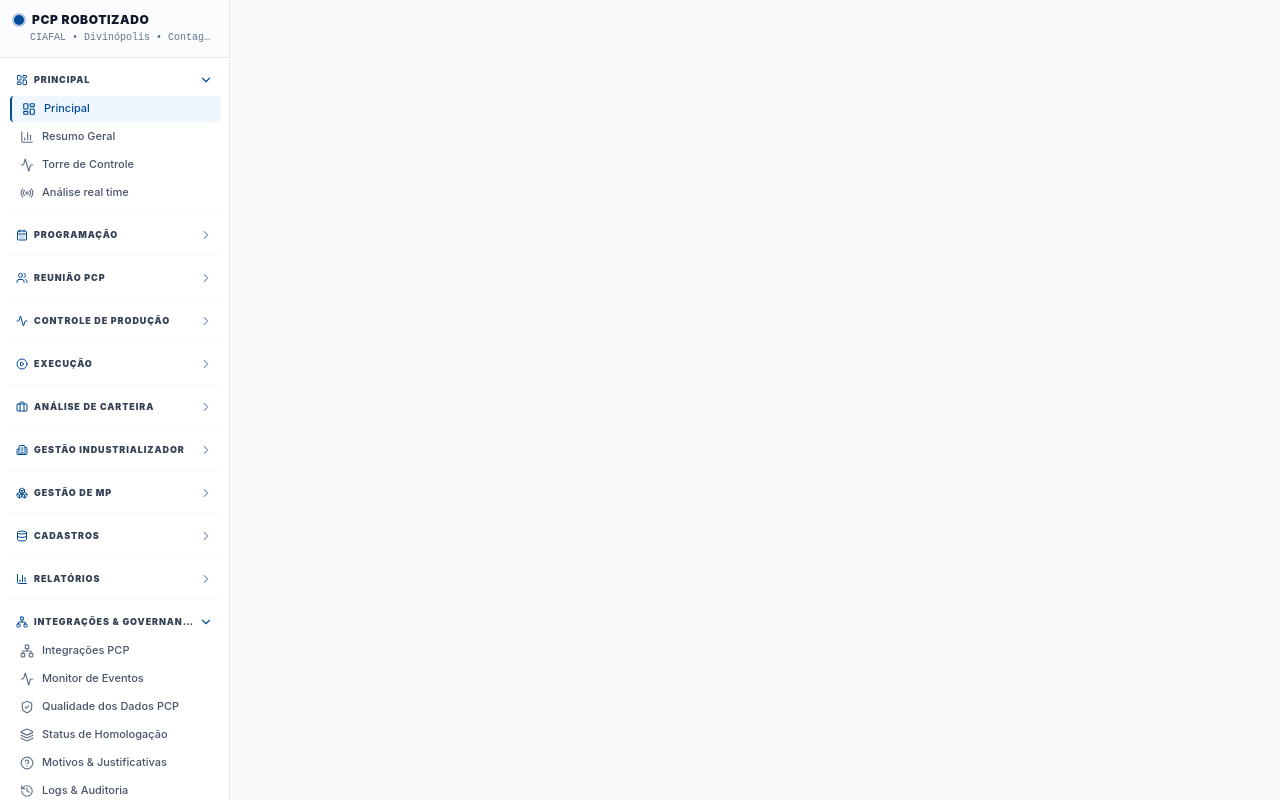
Test: Documentos de Referência + Ação Proposta por IA — Full Acceptance Suite › 2. Menu oficial: item "Documentos de Referência" aparece em CONTROLE DE PRODUÇÃO e navega para /pcp/controle-producao/documentos-referencia
Click the button with test id "nav-group-header-CONTROLE DE PRODUÇÃO": (114, 321) [16,314,213,328]
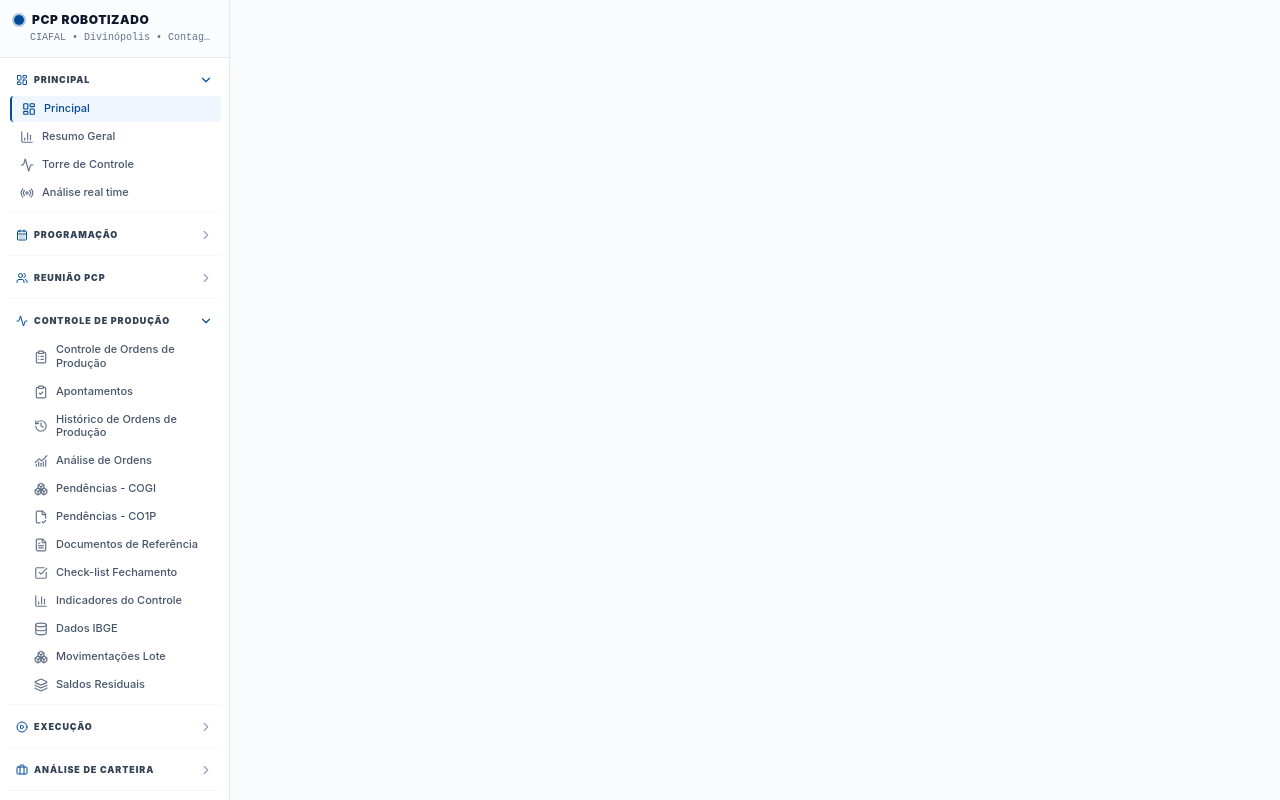
Expected: the text "Documentos de Referência" is shown, [56,538,211,552]
Click the link "Documentos de Referência": (116, 545) [34,537,198,552]
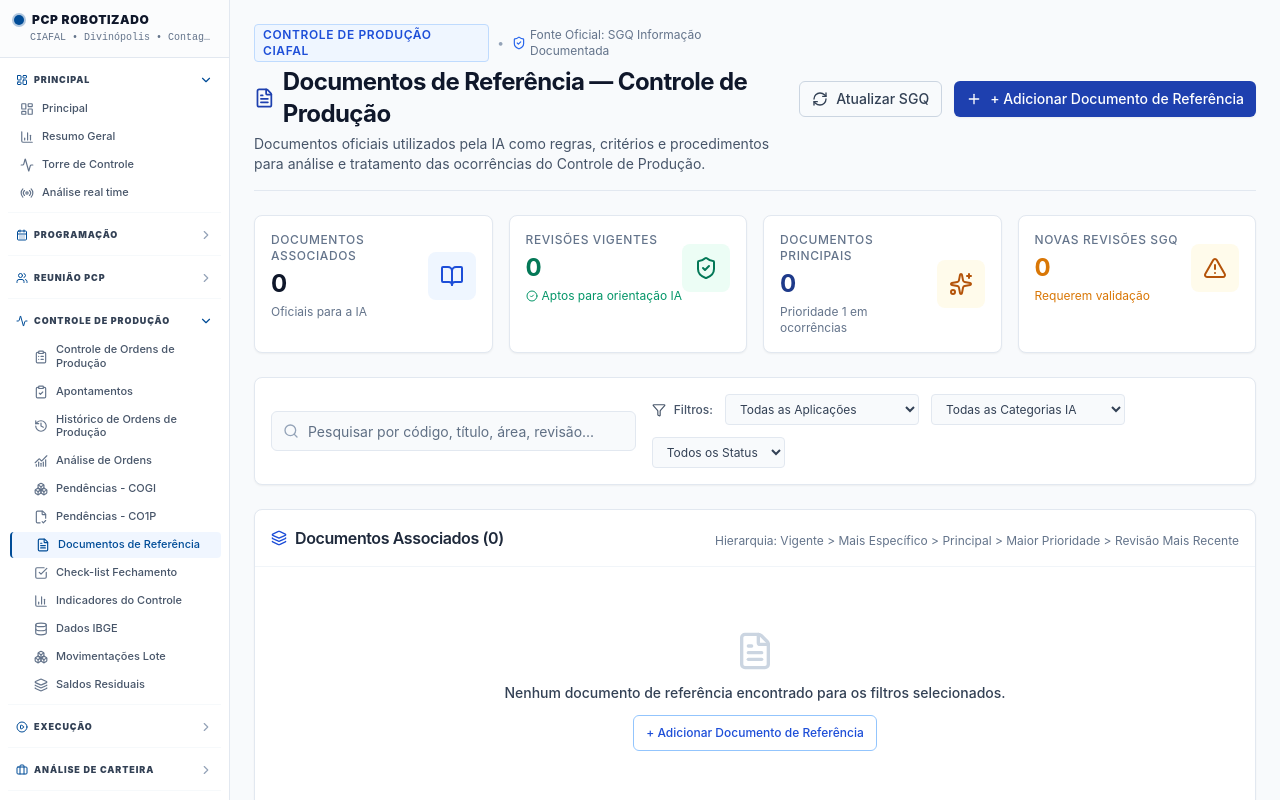
Expected: the heading "Documentos de Referência — Controle de Produção" is shown, [254,66,783,130]
